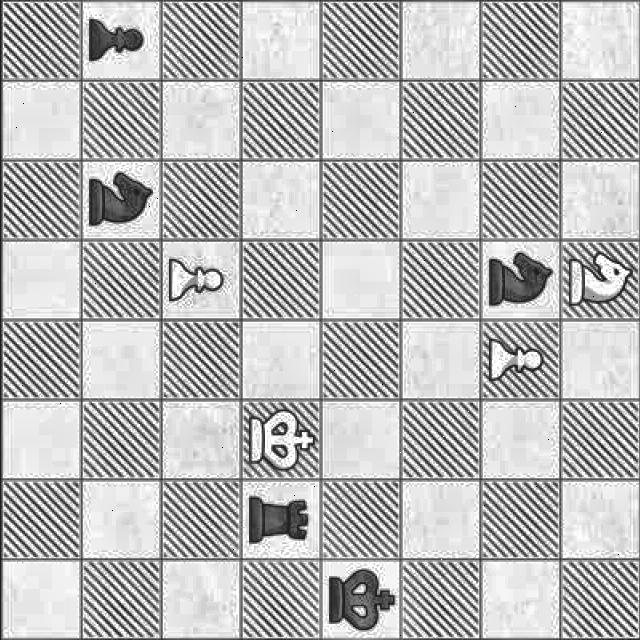Black Knight: (81, 160, 158, 237), (484, 241, 559, 309)
black pawn: (84, 12, 158, 70)
black rook: (242, 494, 312, 547)
white king: (325, 562, 399, 636), (247, 405, 314, 473)
white pawn: (162, 255, 232, 307), (482, 335, 556, 383)
whiteknight: (562, 244, 634, 314)
